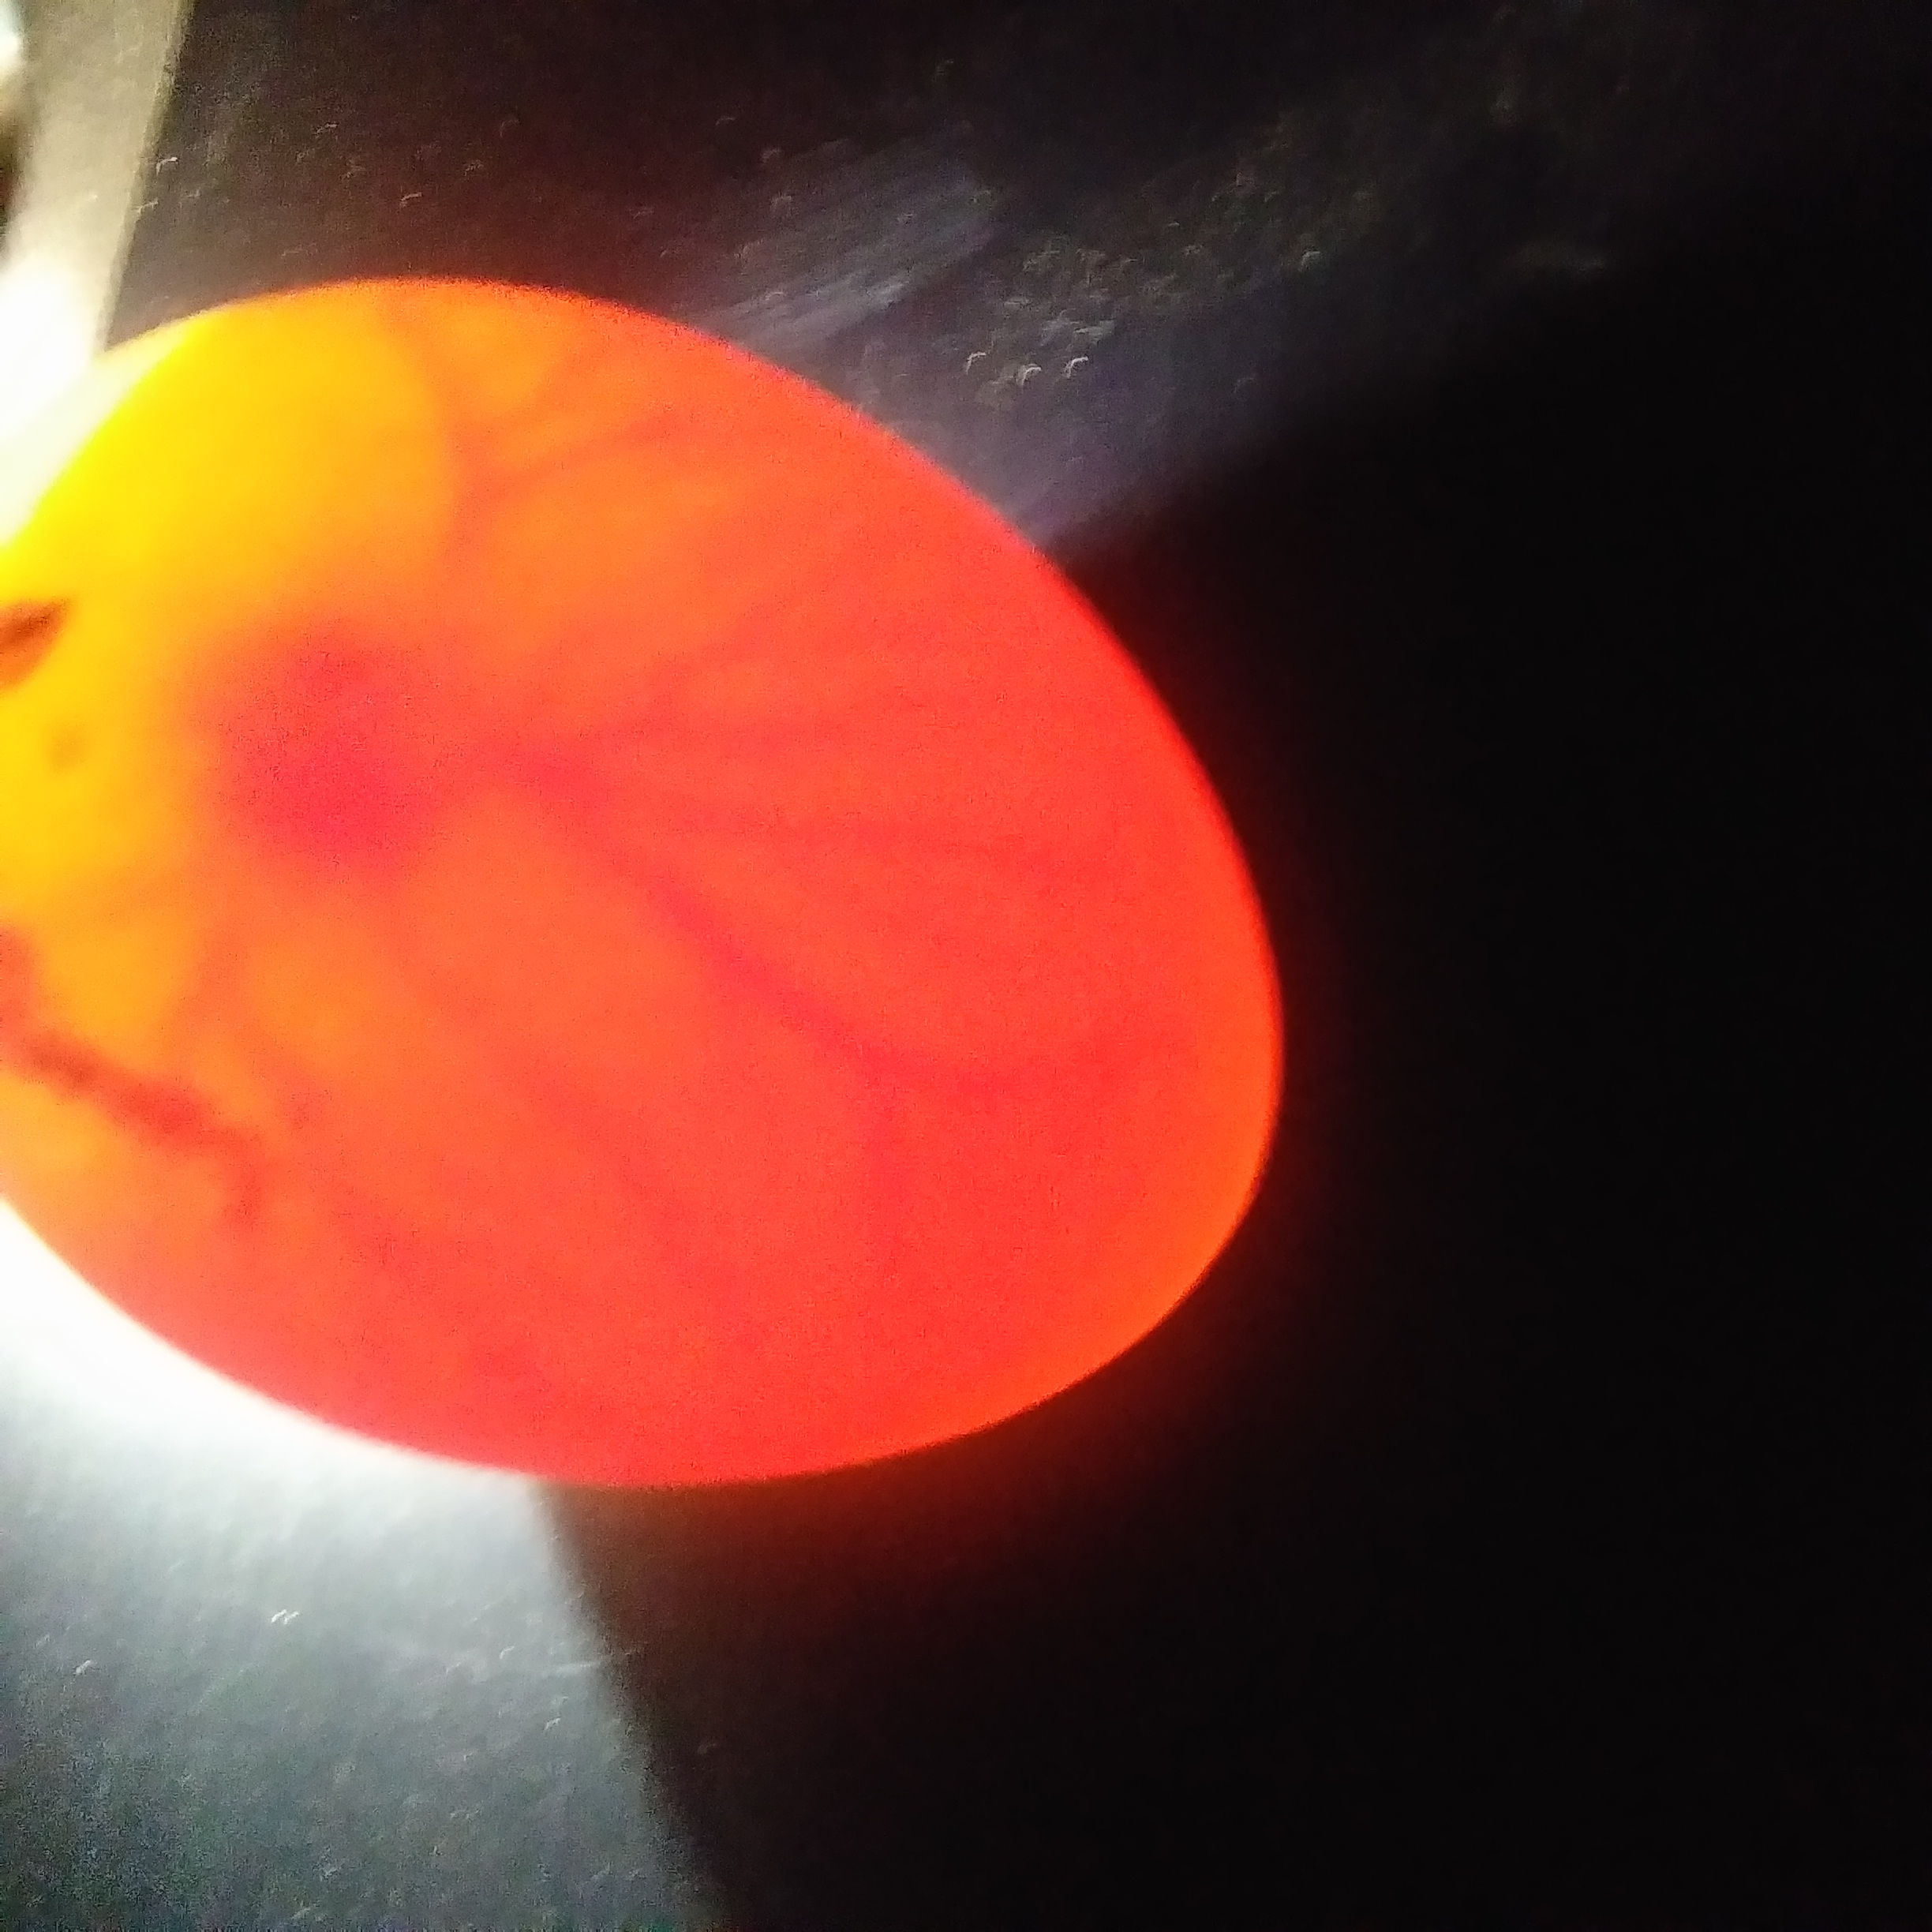bloodcell: (545, 633, 1102, 1288), (276, 322, 713, 582)
embryo: (251, 603, 439, 872)
